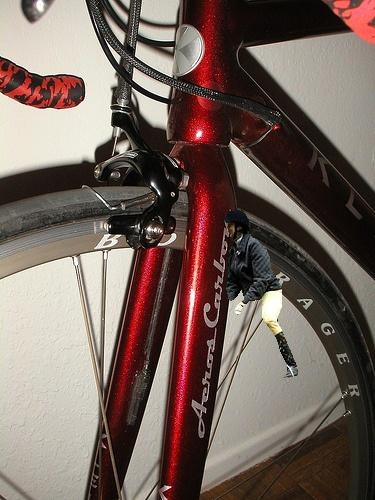tampered: (225, 211, 298, 378)
